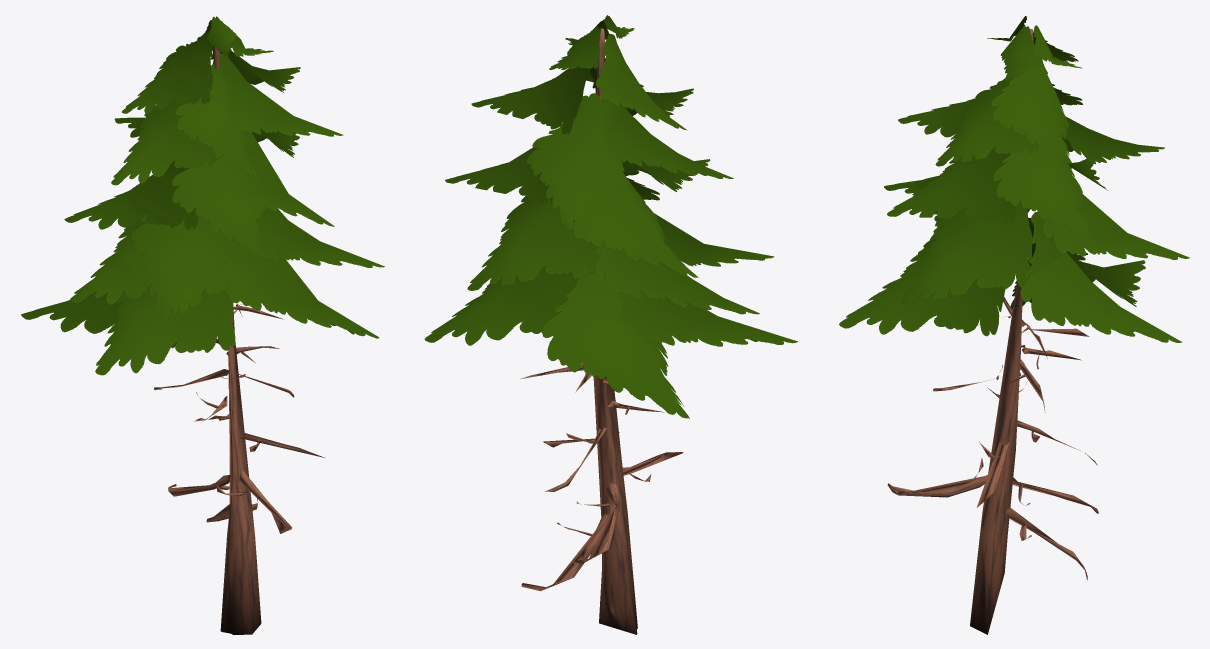
The model's file is pine_3_1.glb.
3 views of the same model, side by side, from view 1: azimuth 30°, elevation 25°; view 2: azimuth 150°, elevation 25°; view 3: azimuth 270°, elevation 25° (orthographic). The views are drawn at different scales.
Parts seen in each view (by area): view 1: Pine_3; view 2: Pine_3; view 3: Pine_3.
Part boxes in pixels (left/top/right/bottom): Pine_3: left=21, top=16, right=384, bottom=634; Pine_3: left=424, top=15, right=797, bottom=634; Pine_3: left=839, top=16, right=1189, bottom=634.
Size of the model in its own units: 3.61 by 7.39 by 4.
Materials: 2 (2 with a texture image).
